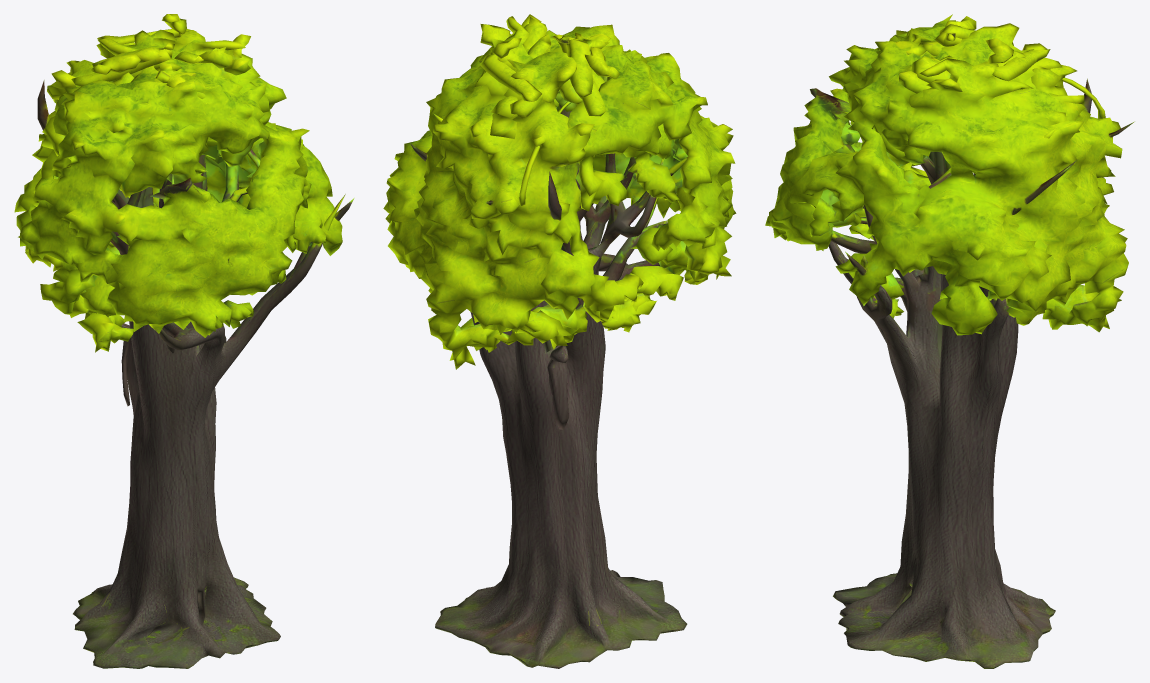
File: normal_tree.glb
The picture shows the model from 3 angles, left to right: view 1: azimuth 30°, elevation 25°; view 2: azimuth 150°, elevation 25°; view 3: azimuth 270°, elevation 25°; orthographic projection.
Bounding box in the file's own units: 1.04 × 1.91 × 1.07.
1 material, 1 textured.
